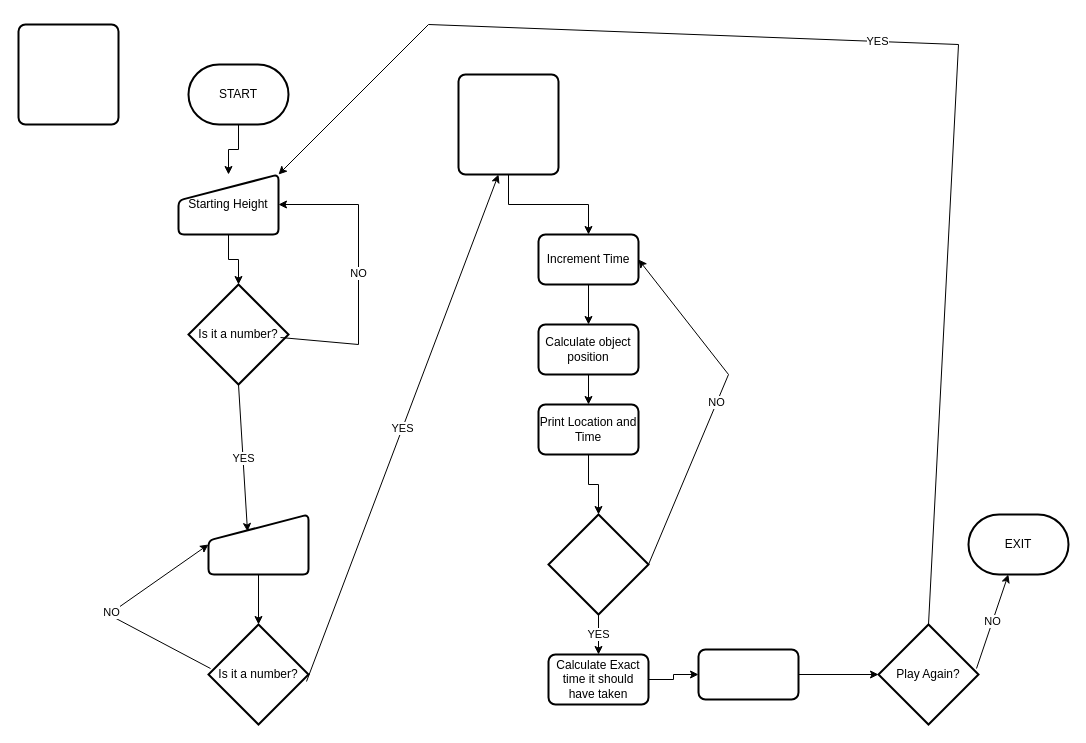
Image size: 1086x743. Some labels were removed from this diagram. The shapes that lost their labels are listed below. From the top down, each one's centre as x and y in pixels, then its label:
At (x=68, y=74): "Clint MacDonald June 9, 2025 Sample Flowchart".
At (x=508, y=124): "Initialize and then Drop The Item".
At (x=258, y=544): "Time Interval".
At (x=598, y=564): "Did it hit the ground?".
At (x=748, y=674): "Print Result".
